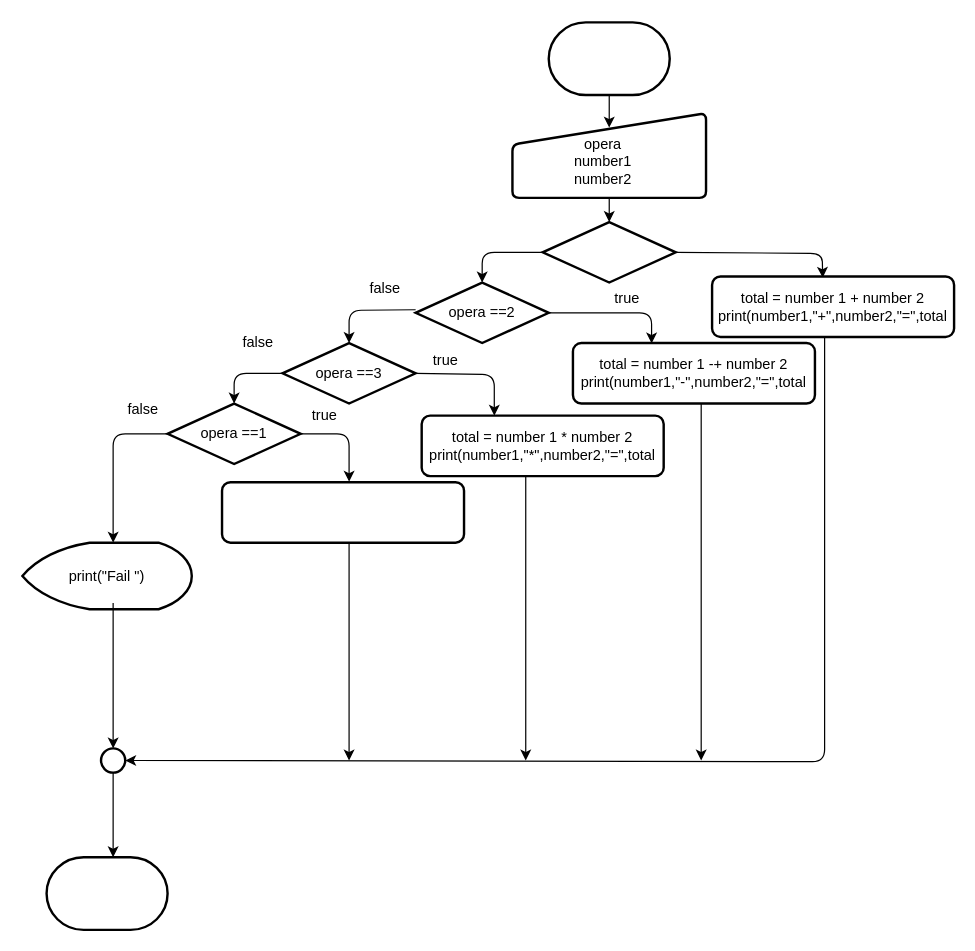
Some shapes in this 975 by 951 pixel diagram are drawn without their labels. The shapes that lost their labels are listed below. From the top down, each one's box as (x1, y1, x2, y2) in pixels, then its label:
(547, 21, 670, 96): begin
(541, 220, 676, 283): opera == 1
(220, 480, 465, 543): total = number 1 / number 2 print(number1,"/",number2,"=",total
(45, 855, 168, 930): END
